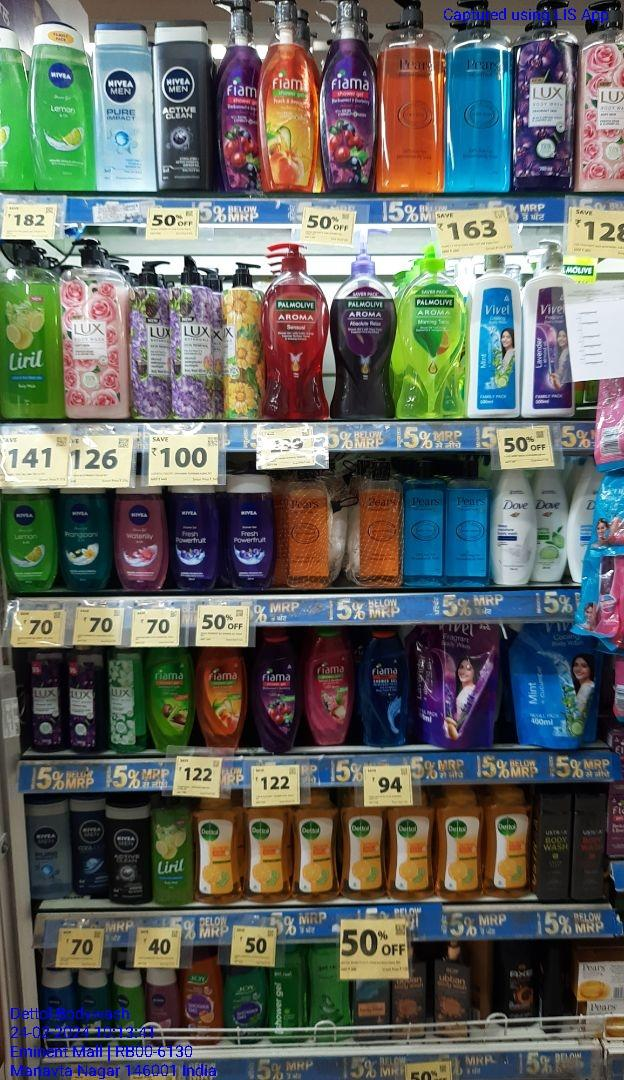Dettol_Bodywash_Refresh: (436, 797, 486, 901), (196, 799, 244, 906), (246, 801, 293, 902), (488, 797, 532, 900), (297, 803, 342, 903), (391, 801, 436, 899), (346, 799, 388, 902)
Dove_Deep_Moisture_Body_Wash_250ML: (493, 467, 539, 588)
Fiama_Shower_Gel_Lemongrass_and_Jojoba_250ML: (148, 649, 193, 750)
Fiama_Shower_Gel_Patchouli_and_Macadamia_250ML: (304, 631, 352, 746)
Fiama_Shower_Gel_Peach_and_Avocado_250ML: (197, 650, 247, 751)
Liril_Lime_and_Tea_Tree_Oil_Body_Wash_250ML: (150, 801, 197, 901)
Lux_Black_Orchid_Scent_and_Juniper_Oil_Body_Wash_245ML: (27, 650, 66, 753), (68, 650, 104, 753)
Lux_Body_Wash_Skin_Detox_Freesia_Scent_and_Alove_Vera_245ML: (107, 649, 146, 754)
Nivea_Shower_Gel_Frangipani_and_Oil_250ML: (62, 491, 113, 588)
Nivea_Shower_Gel_Fresh_Powerfruit_250ML: (224, 479, 276, 588), (169, 487, 218, 592)
Nivea_Shower_Gel_Lemon_and_Oil_250ML: (2, 492, 59, 593)
Nivea_Shower_Gel_Waterlily_and_Oil_250ML: (116, 488, 169, 593)
Pears_Pure_Glycerin_and_Mint_Extracts_Body_Wash_250ML: (403, 461, 450, 588), (449, 459, 492, 587)
